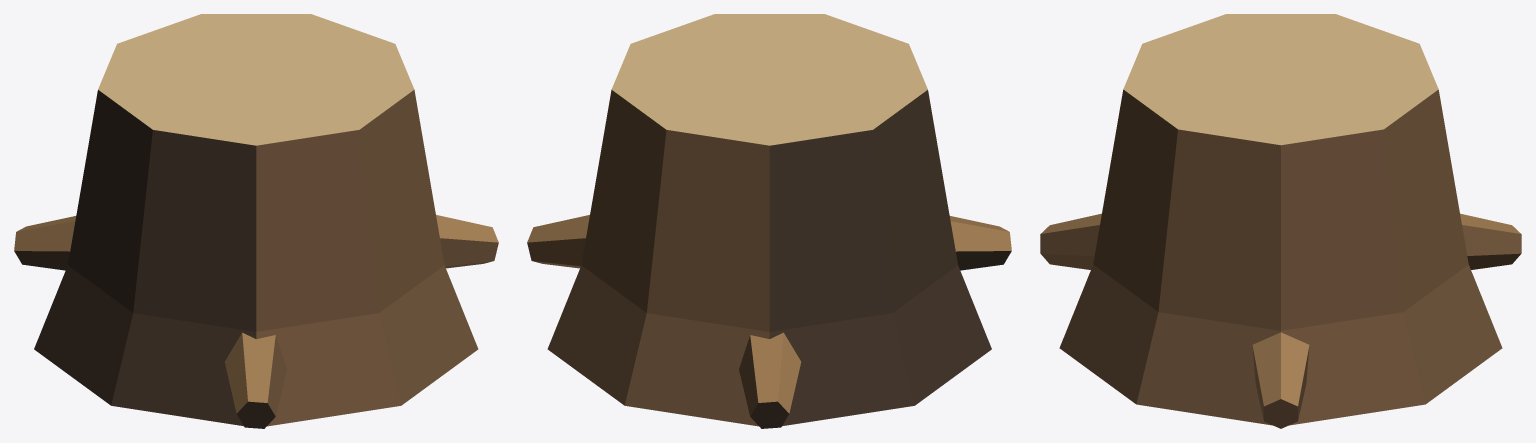
Rendered from TW_PROP_STUMP_ROUND_A_LOD0.glb.
3 views of the same model, side by side, from view 1: azimuth 30°, elevation 25°; view 2: azimuth 150°, elevation 25°; view 3: azimuth 270°, elevation 25° (orthographic).
Visible parts, largest first — view 1: TW_PROP_STUMP_ROUND_A_LOD0; view 2: TW_PROP_STUMP_ROUND_A_LOD0; view 3: TW_PROP_STUMP_ROUND_A_LOD0.
Boxes of the visible parts, box(x1,y1,x2,y2) form: TW_PROP_STUMP_ROUND_A_LOD0: box(14, 14, 498, 428); TW_PROP_STUMP_ROUND_A_LOD0: box(527, 14, 1011, 428); TW_PROP_STUMP_ROUND_A_LOD0: box(1040, 14, 1521, 428).
Bounding box in the file's own units: 0.8622 × 0.5 × 0.8578.
Materials: 1 (1 with a texture image).
